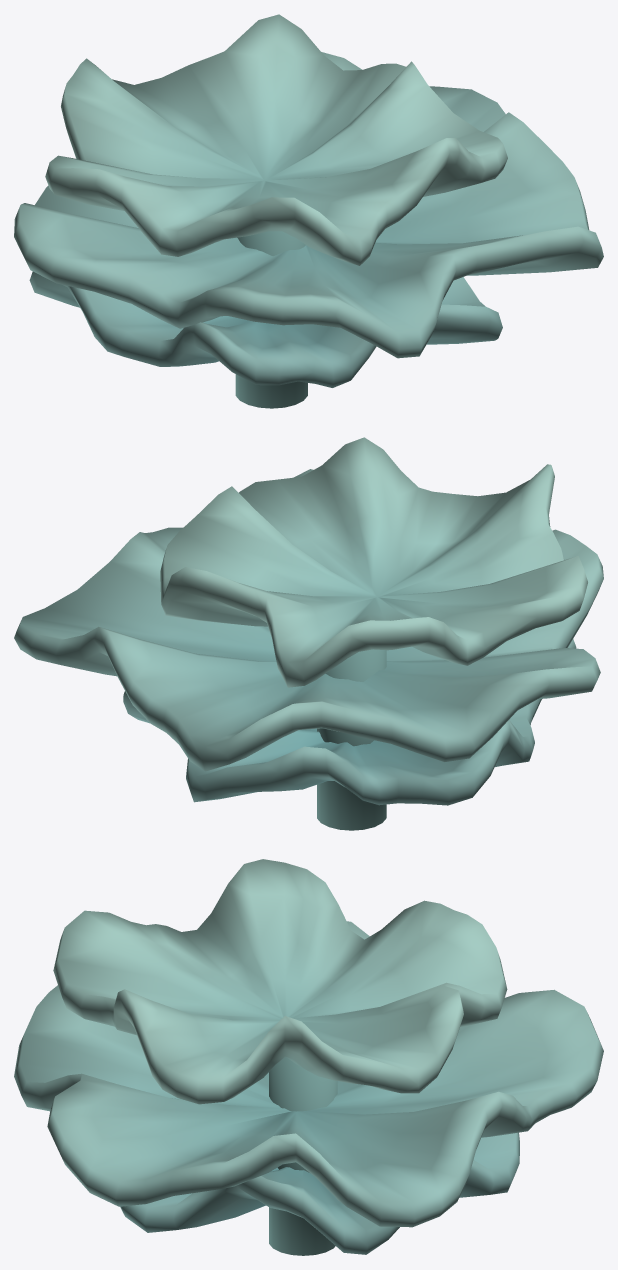
The model's file is plate_coral.glb.
The picture shows the model from 3 angles, top to bottom: view 1: azimuth 30°, elevation 25°; view 2: azimuth 150°, elevation 25°; view 3: azimuth 270°, elevation 25°; orthographic projection. The views are drawn at different scales.
Visible parts, largest first — view 1: world; view 2: world; view 3: world.
Part boxes in pixels (bbox=[...]): world: bbox=[14, 14, 603, 408]; world: bbox=[14, 437, 603, 830]; world: bbox=[14, 859, 603, 1255].
Bounding box in the file's own units: 1.61 × 0.8689 × 1.61.
